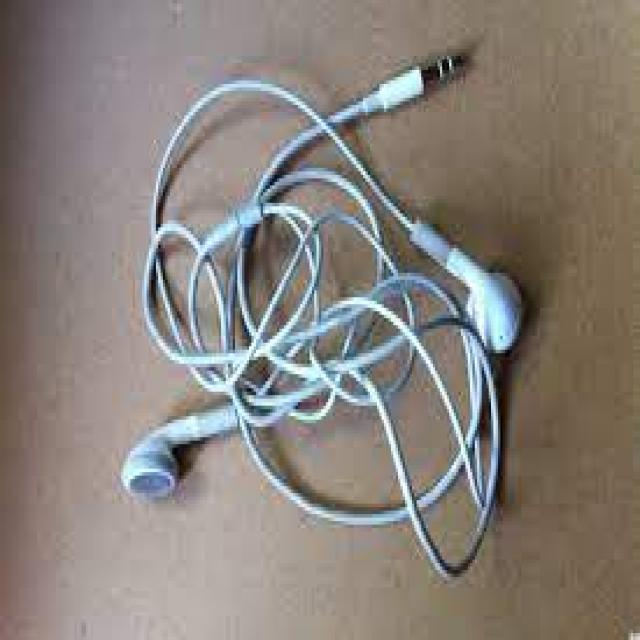headphones: (106, 172, 547, 532)
